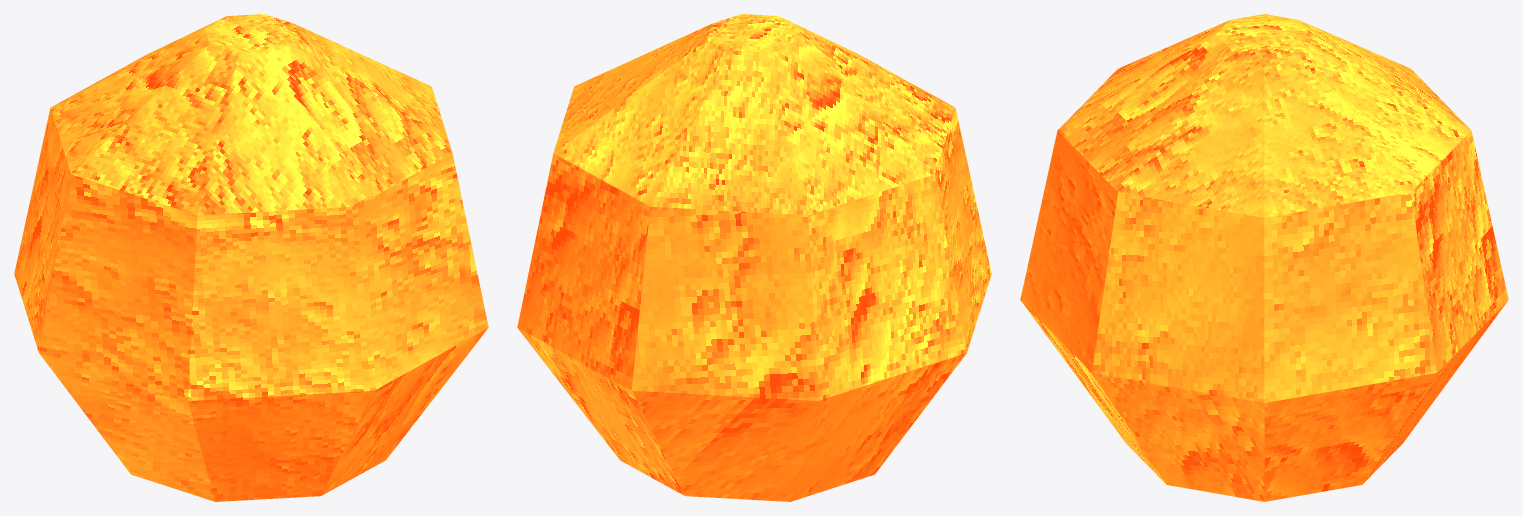
The model's file is moon.gltf.
3 renders of one model, left to right at view 1: azimuth 30°, elevation 25°; view 2: azimuth 150°, elevation 25°; view 3: azimuth 270°, elevation 25°, orthographic.
Parts seen in each view (by area): view 1: Sphere; view 2: Sphere; view 3: Sphere.
Part boxes in pixels (box(x1,y1,x2,y2)): Sphere: box(14, 14, 488, 501); Sphere: box(517, 14, 991, 501); Sphere: box(1020, 14, 1508, 501).
Size of the model in its own units: 36.59 by 37.31 by 36.59.
Materials: 1 (1 with a texture image).
